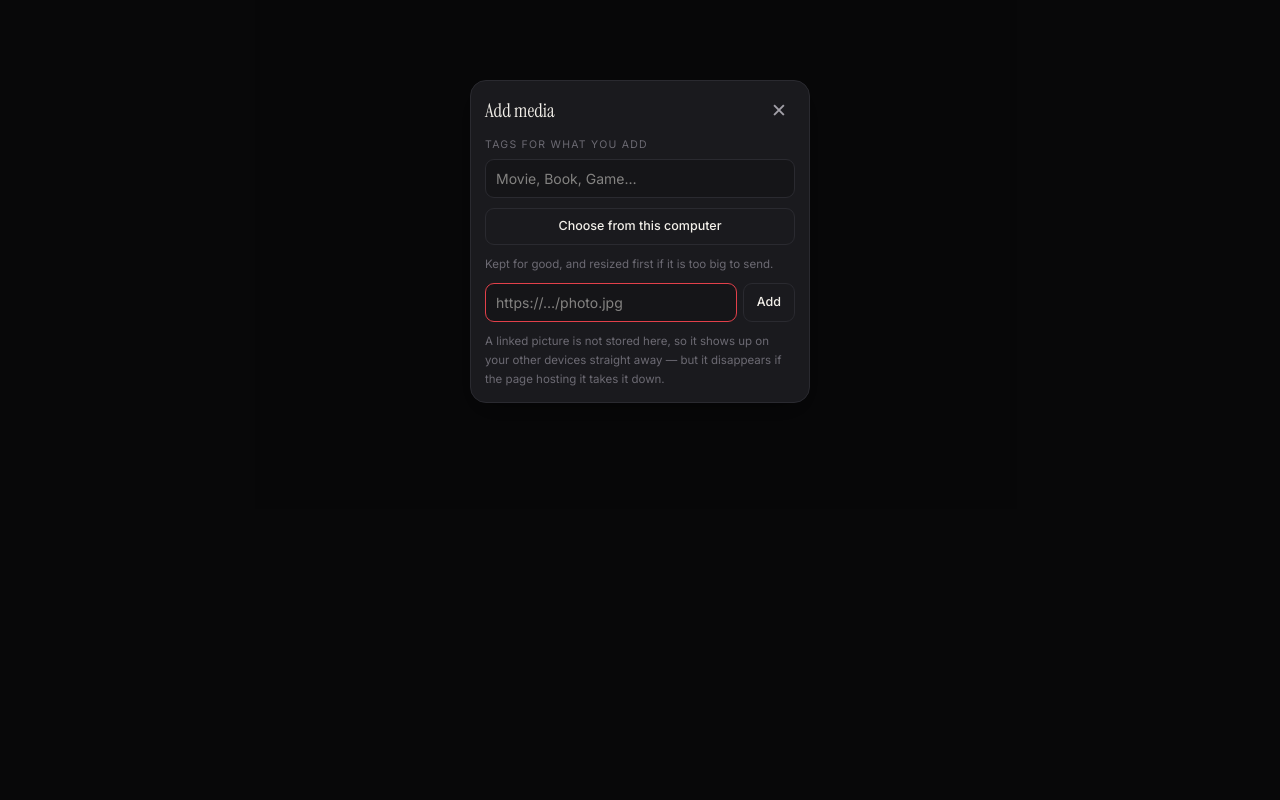
adding media › stays open and complains when the link is not one
Type "not a url" into the field with placeholder "https://…/photo.jpg". click: point(611, 303)
box: top-left (485, 283), bottom-right (737, 322)
Then press Enter
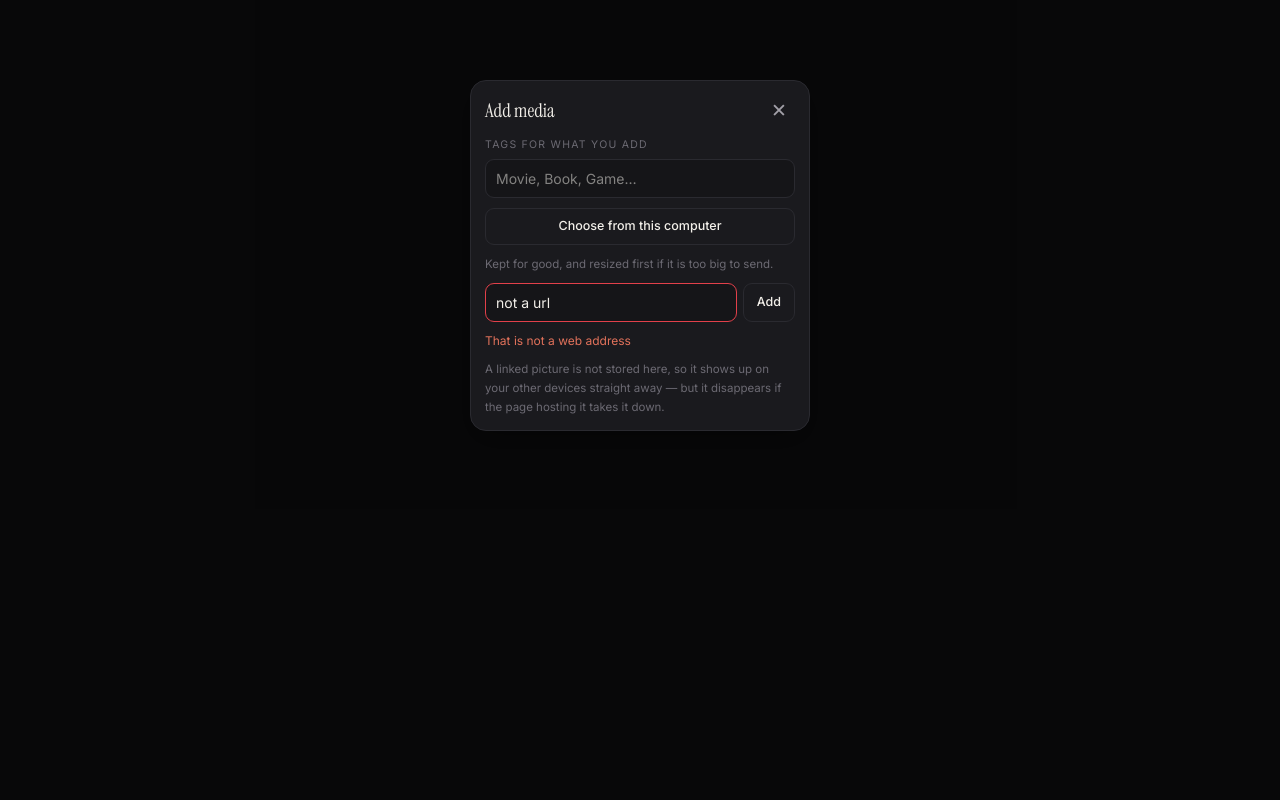
Expected: the text "That is not a web address" is shown, top-left (485, 333), bottom-right (631, 348)
